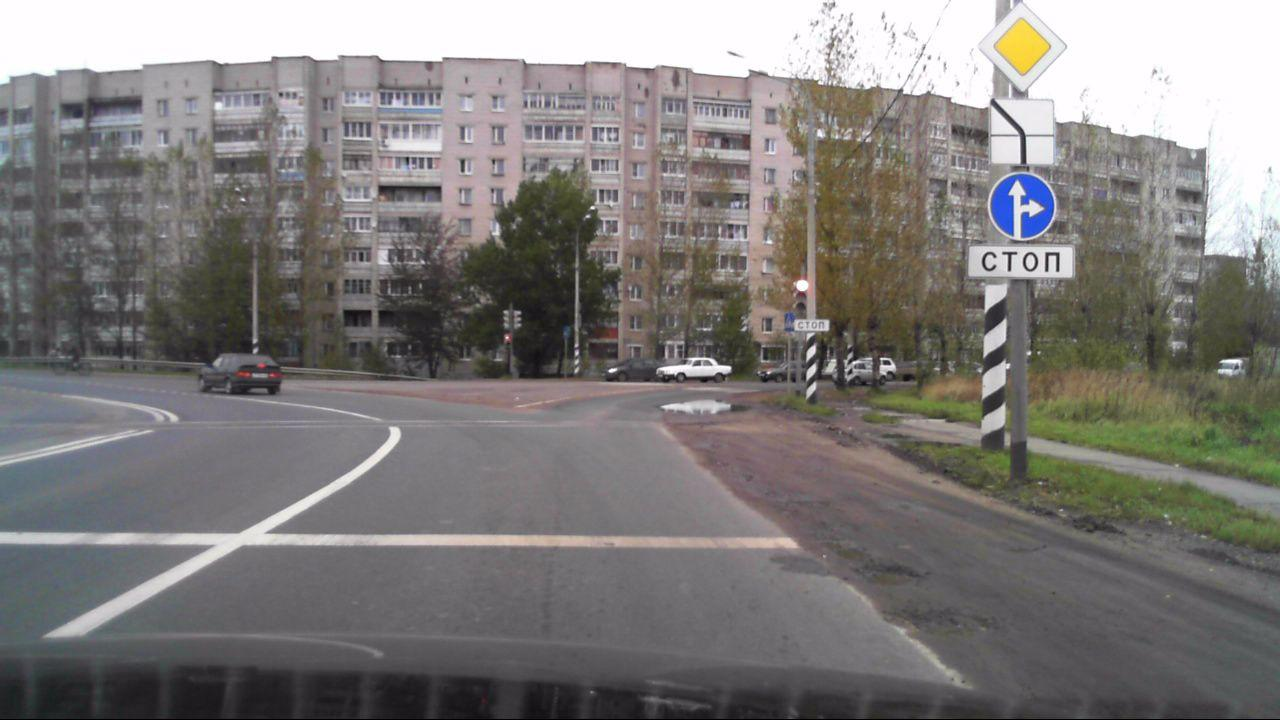2_1: (977, 2, 1066, 93)
4_1_4: (986, 170, 1059, 243)
5_19_1: (782, 311, 794, 332)
6_16: (968, 244, 1077, 279), (794, 319, 829, 333)
8_13: (988, 96, 1058, 166)
